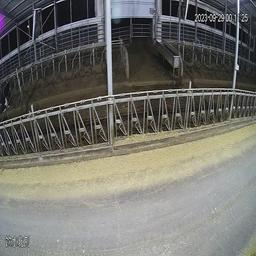cow: (1, 74, 13, 113)
